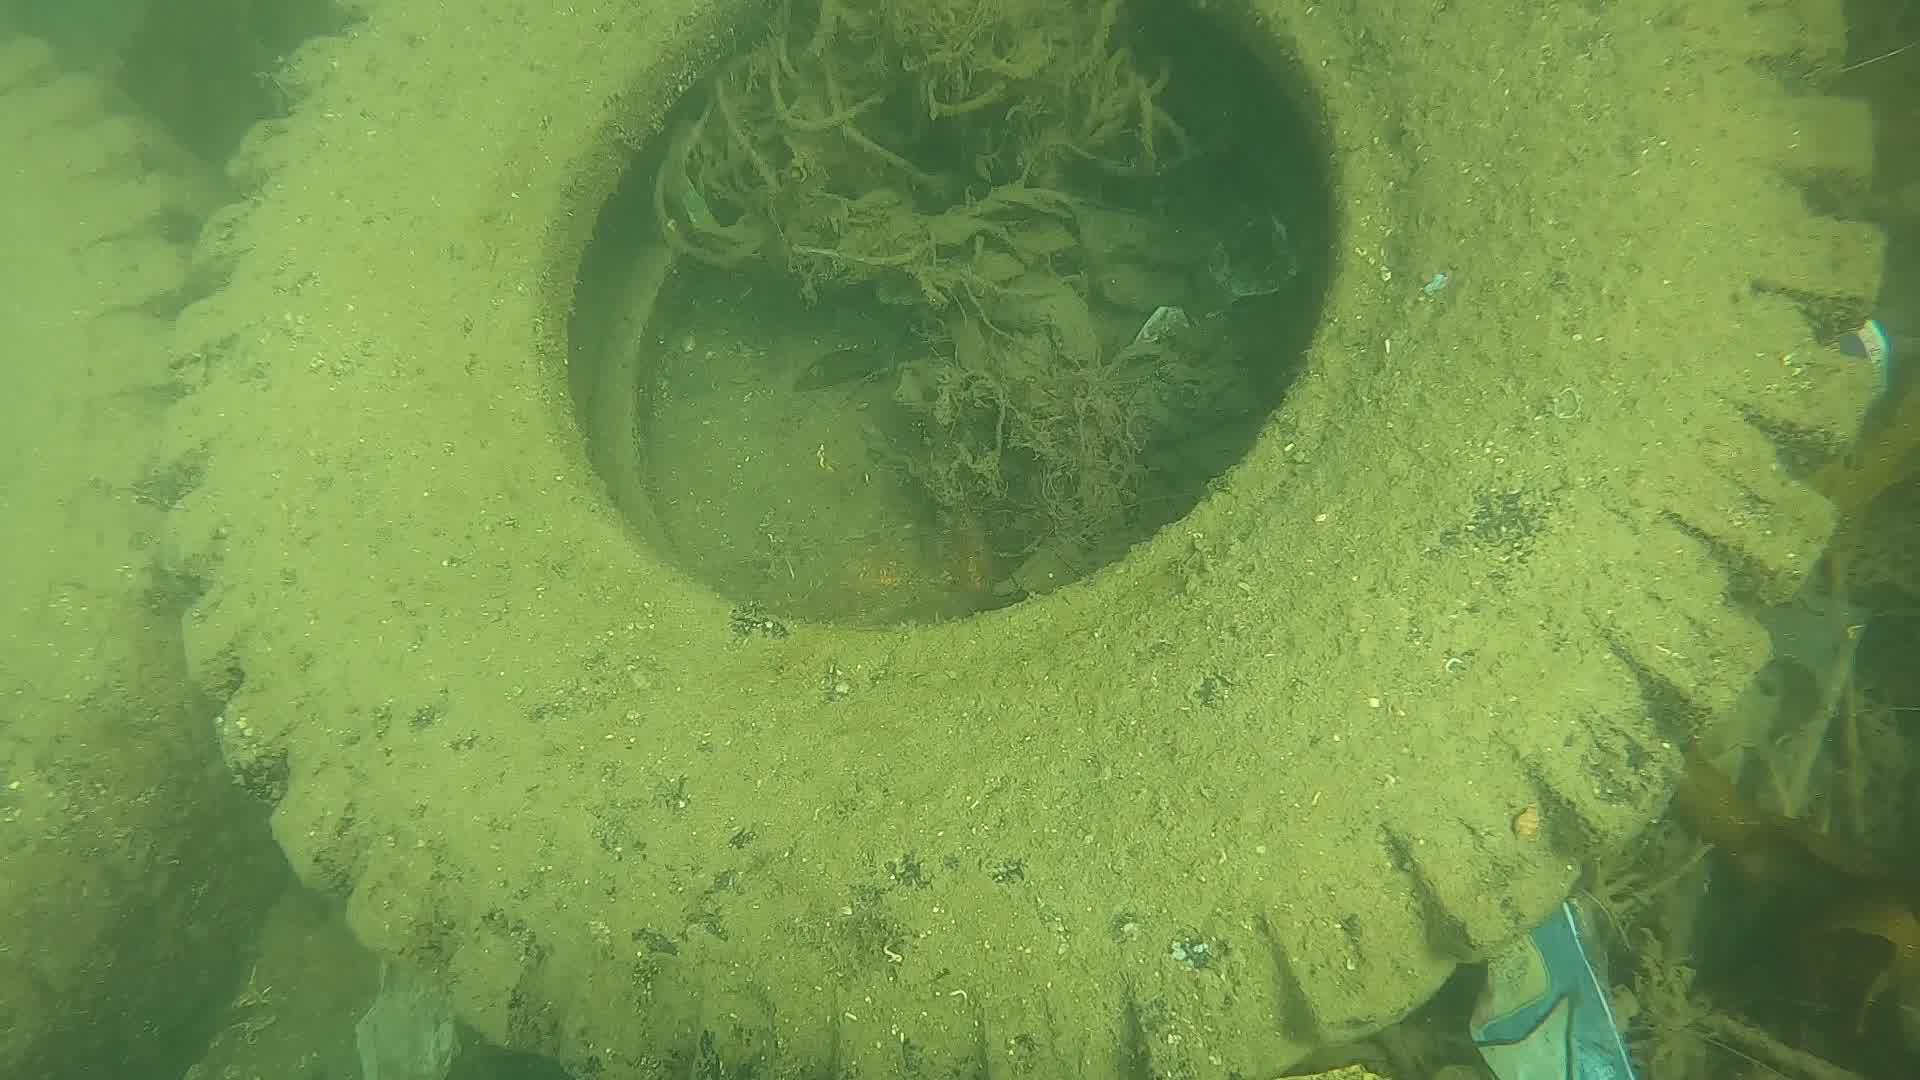tire: (154, 0, 1883, 1080)
